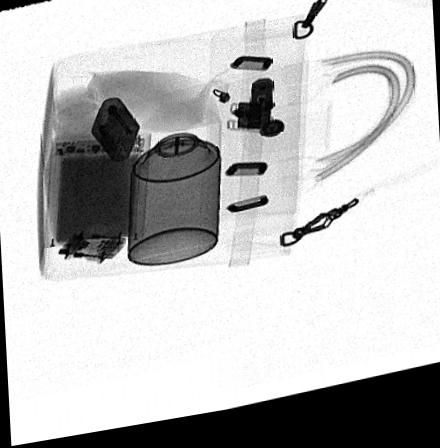Lighter: (91, 101, 141, 167)
Powerbank: (47, 137, 152, 250)
Sprayer: (128, 114, 222, 272)
